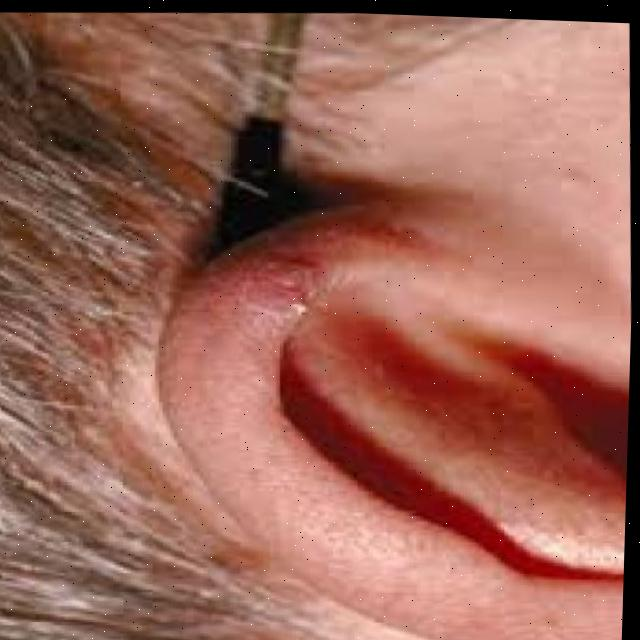Eczema: (257, 250, 328, 315)
